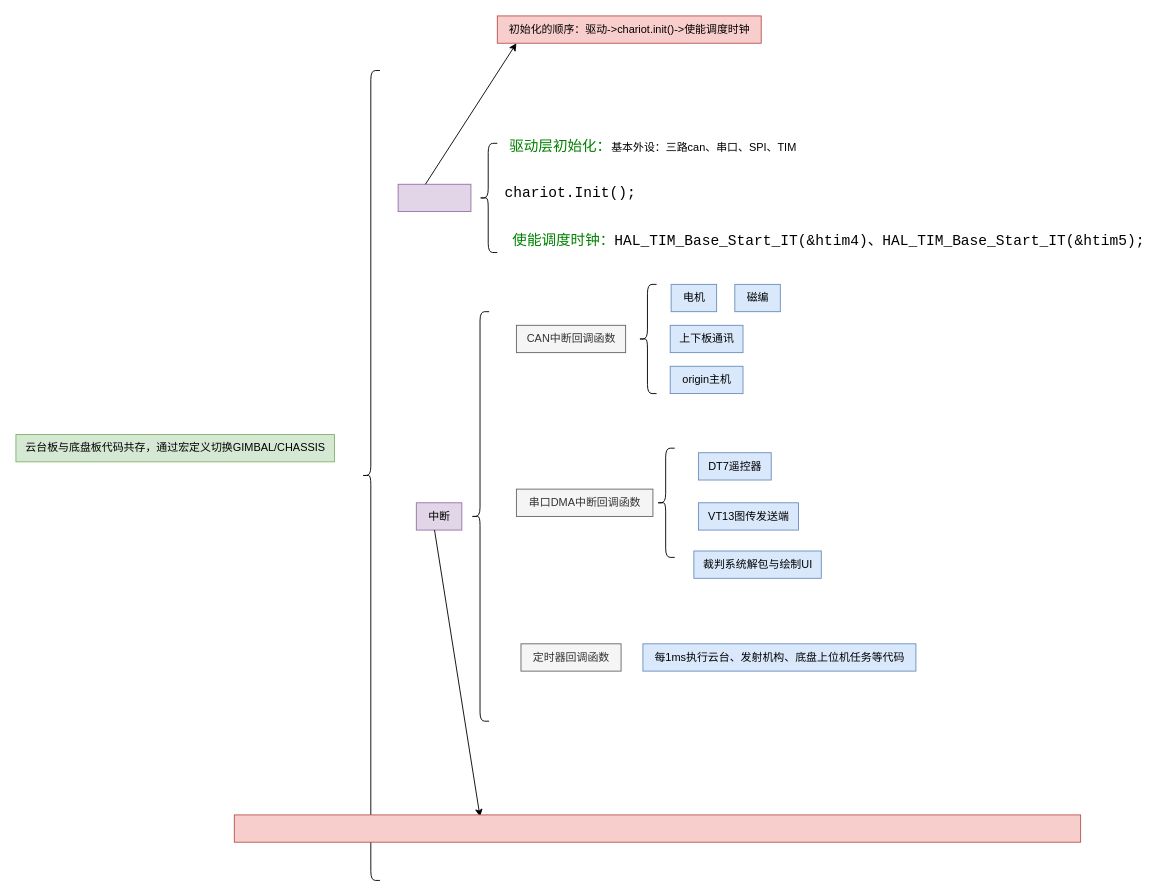
This 1161x896 diagram has some shape labels left out. Each missing label, with the box of its shape:
Task_Init(): (397, 183, 471, 212)
在初始化完成后，跑代码的地方只有两处：中断函数与while(1)，遥控代码跑在串口回调函数中，利用处理后的遥控数据来控制机器人各个电机的代码跑在定时器回调函数中: (233, 814, 1081, 842)
